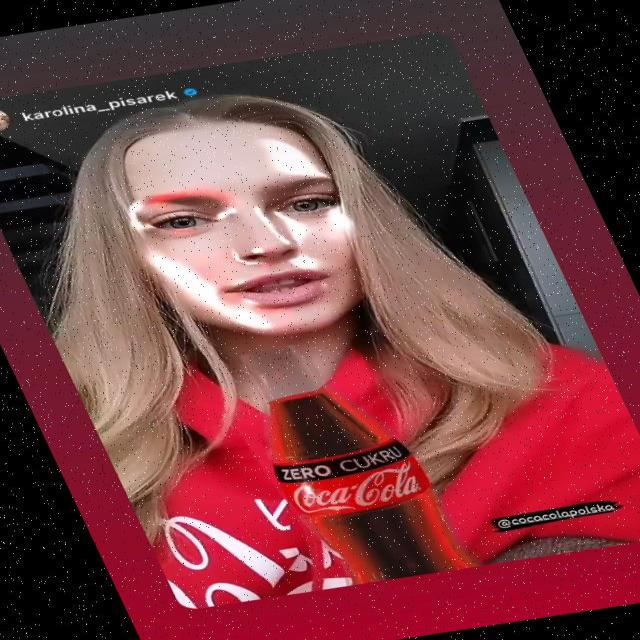coca-cola: (216, 332, 481, 587)
